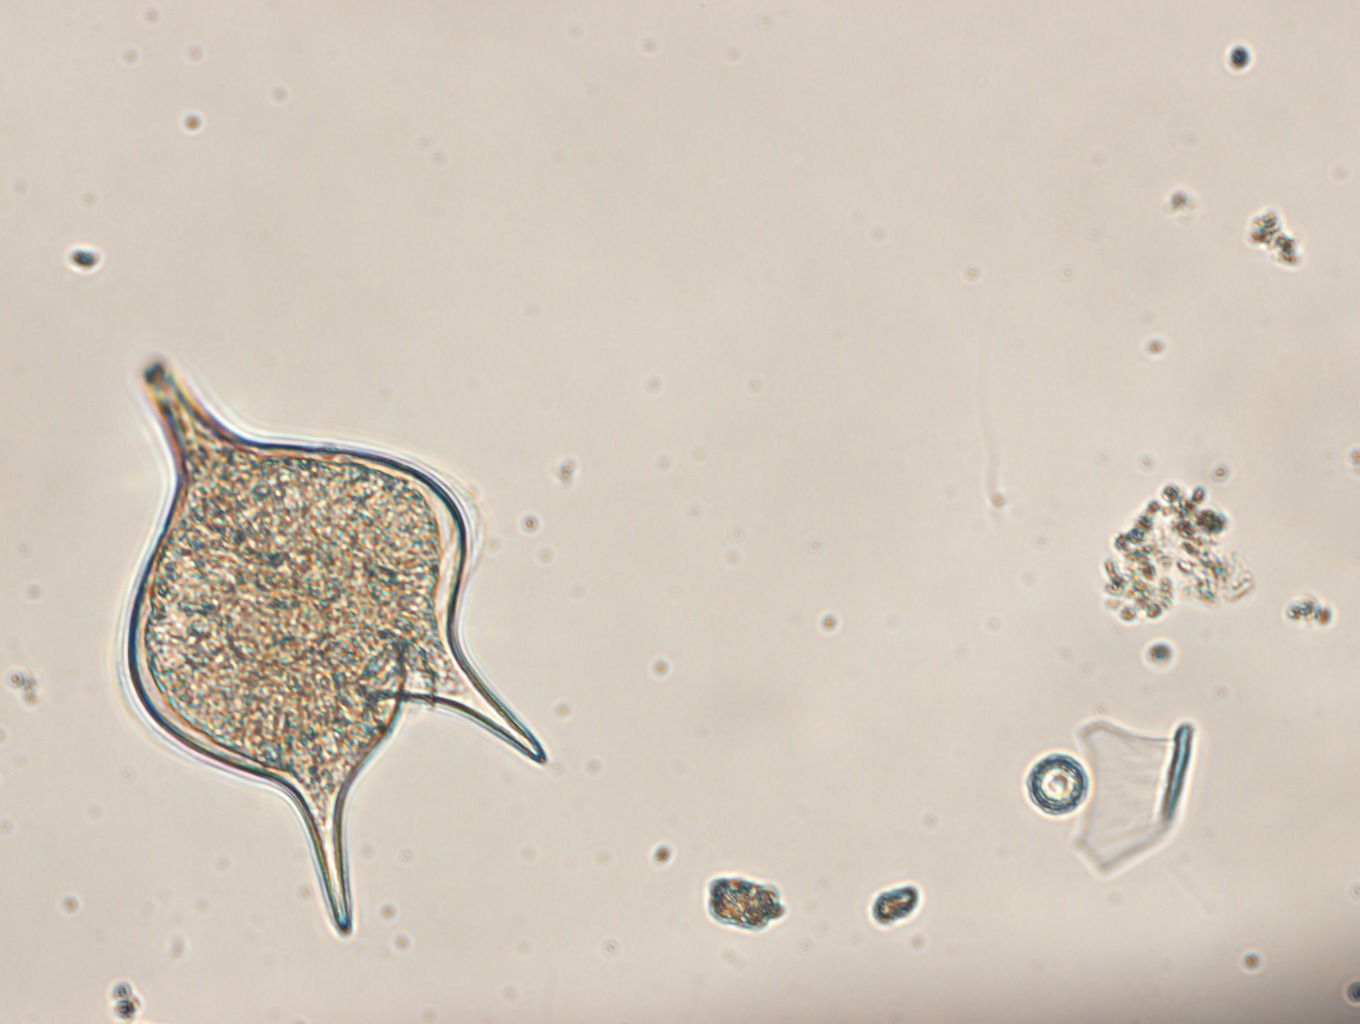protoperidinium: (118, 352, 549, 938)
